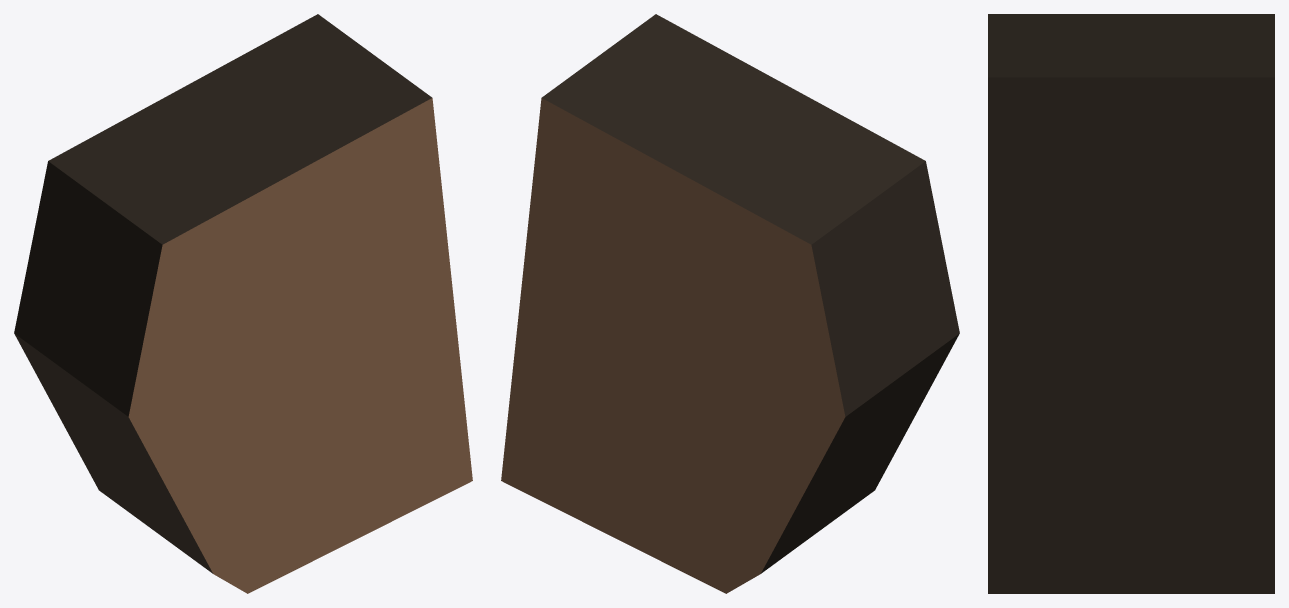
Rendered from SM_DoorShard_02_10.fbx.
3 views of the same model, side by side, from view 1: azimuth 30°, elevation 25°; view 2: azimuth 150°, elevation 25°; view 3: azimuth 270°, elevation 25° (orthographic). The views are drawn at different scales.
Parts seen in each view (by area): view 1: SM_DoorShard_02_10; view 2: SM_DoorShard_02_10; view 3: SM_DoorShard_02_10.
Part boxes in pixels (x1=…): SM_DoorShard_02_10: x1=14, y1=14, x2=472, y2=593; SM_DoorShard_02_10: x1=501, y1=14, x2=959, y2=593; SM_DoorShard_02_10: x1=988, y1=14, x2=1274, y2=593.
Size of the model in its own units: 27.78 by 16 by 34.78.
